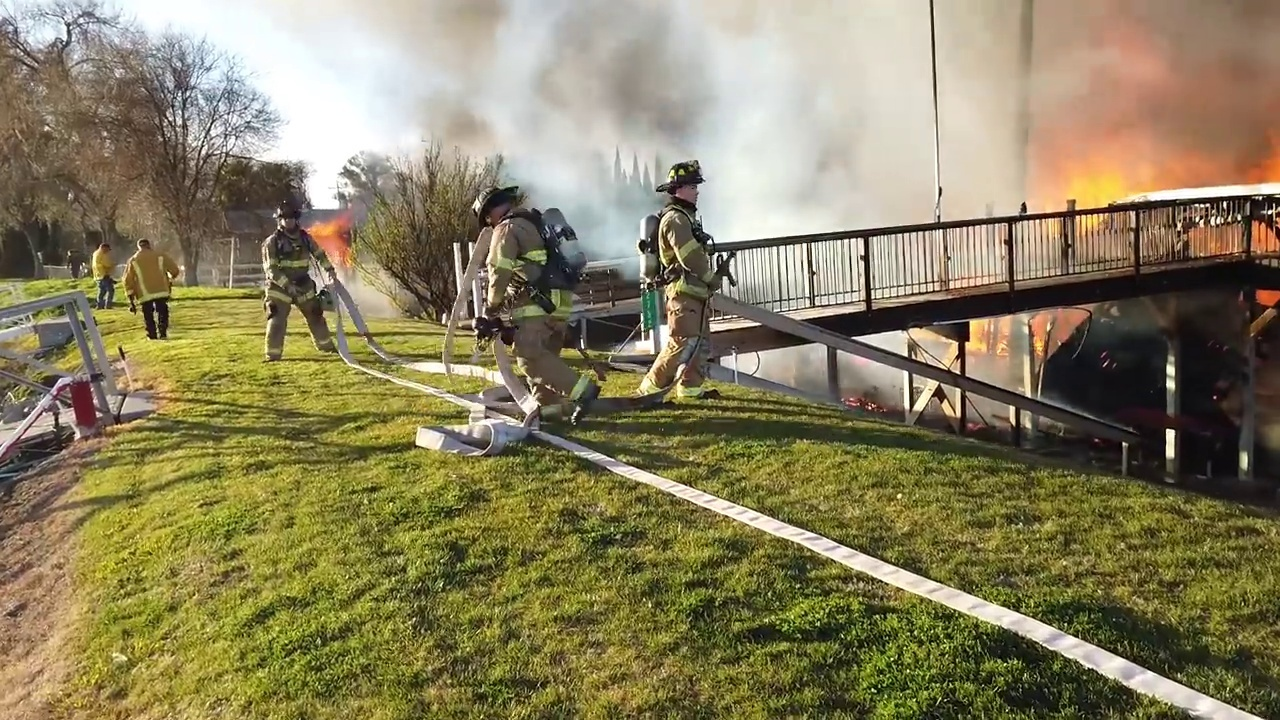fire: (1055, 112, 1279, 234), (302, 202, 361, 265), (967, 318, 1052, 360), (1242, 116, 1280, 186), (844, 385, 895, 421), (1249, 289, 1279, 338), (966, 417, 987, 434)
smoke: (277, 2, 1280, 113), (714, 115, 1055, 213), (503, 116, 665, 262), (759, 349, 829, 395), (842, 337, 901, 380), (968, 363, 1034, 391), (968, 395, 1008, 420)
